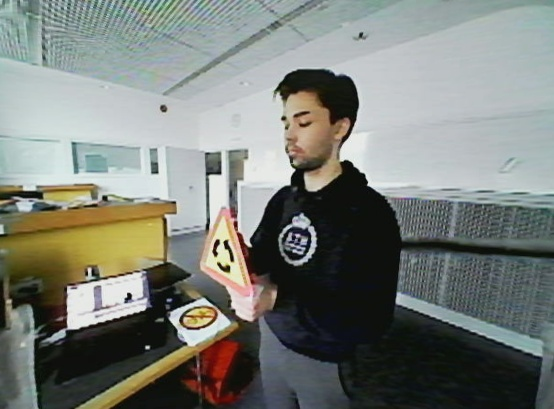roundabout_warning: (199, 204, 251, 305)
